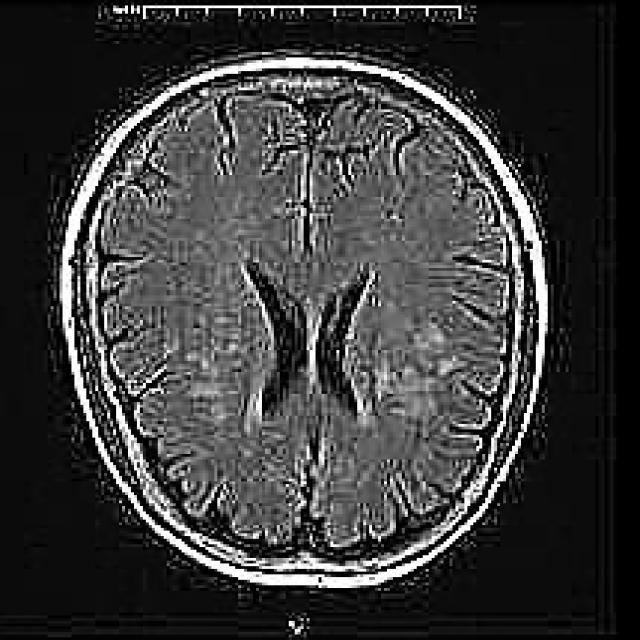notumor: (57, 57, 551, 591)
